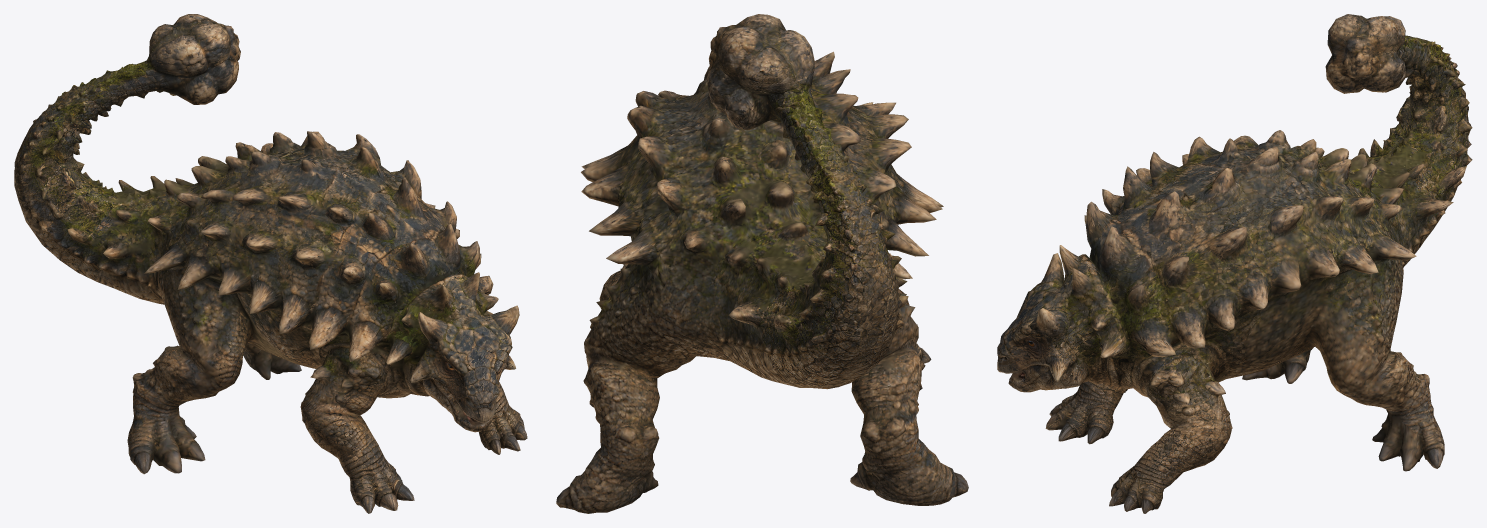
Rendered from Dinosaur.glb.
3 renders of one model, left to right at view 1: azimuth 30°, elevation 25°; view 2: azimuth 150°, elevation 25°; view 3: azimuth 270°, elevation 25°, orthographic. The views are drawn at different scales.
Parts seen in each view (by area): view 1: tripo_node_7fbb5245-61aa-42f8-ad4c-6ad2f2d7cf79; view 2: tripo_node_7fbb5245-61aa-42f8-ad4c-6ad2f2d7cf79; view 3: tripo_node_7fbb5245-61aa-42f8-ad4c-6ad2f2d7cf79.
Part boxes in pixels (box(x1,y1,x2,y2)): tripo_node_7fbb5245-61aa-42f8-ad4c-6ad2f2d7cf79: box(14, 14, 527, 513); tripo_node_7fbb5245-61aa-42f8-ad4c-6ad2f2d7cf79: box(556, 14, 968, 513); tripo_node_7fbb5245-61aa-42f8-ad4c-6ad2f2d7cf79: box(997, 14, 1472, 513).
Size of the model in its own units: 0.8983 by 0.9139 by 1.
Materials: 1 (1 with a texture image).
